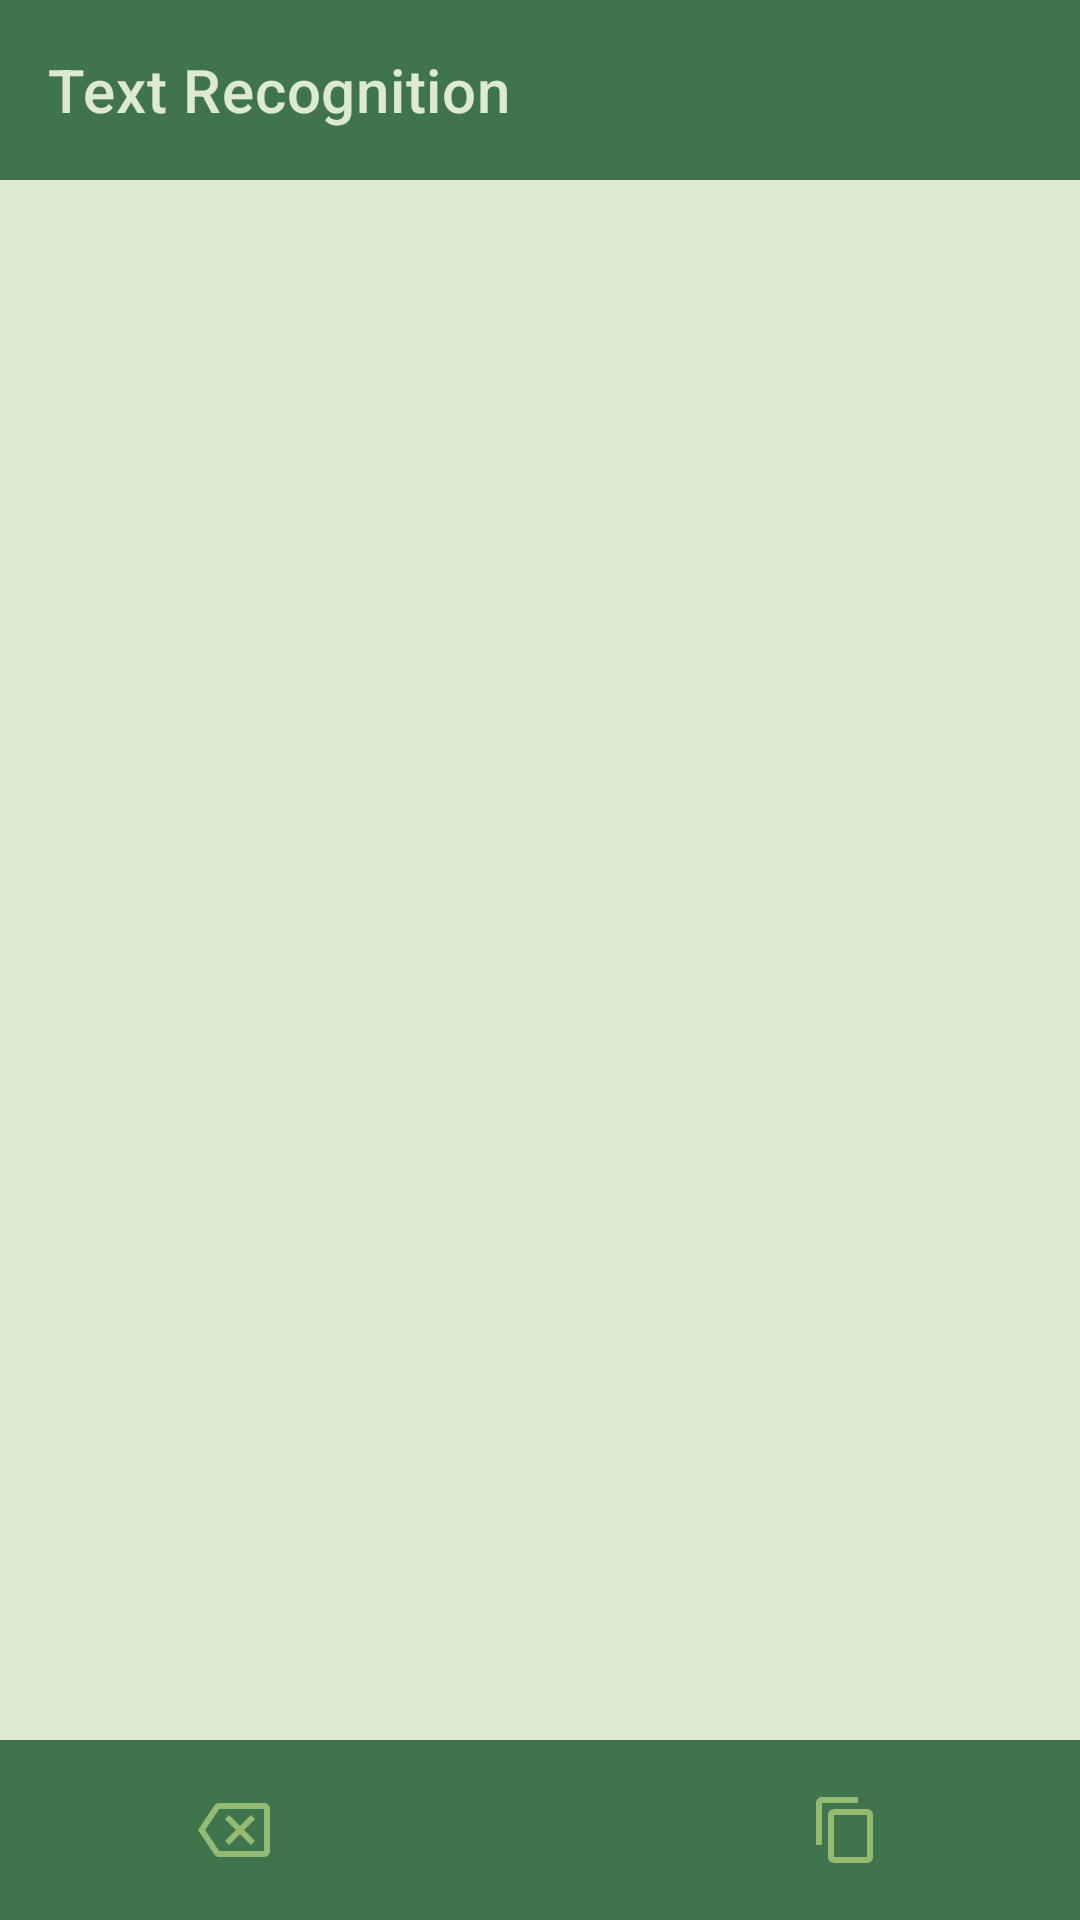

Locate icon controls on the screen. Image size 1080 x 1920, boxes as (x1, y1, x2, y2).
backspace: (198, 1803, 270, 1857)
